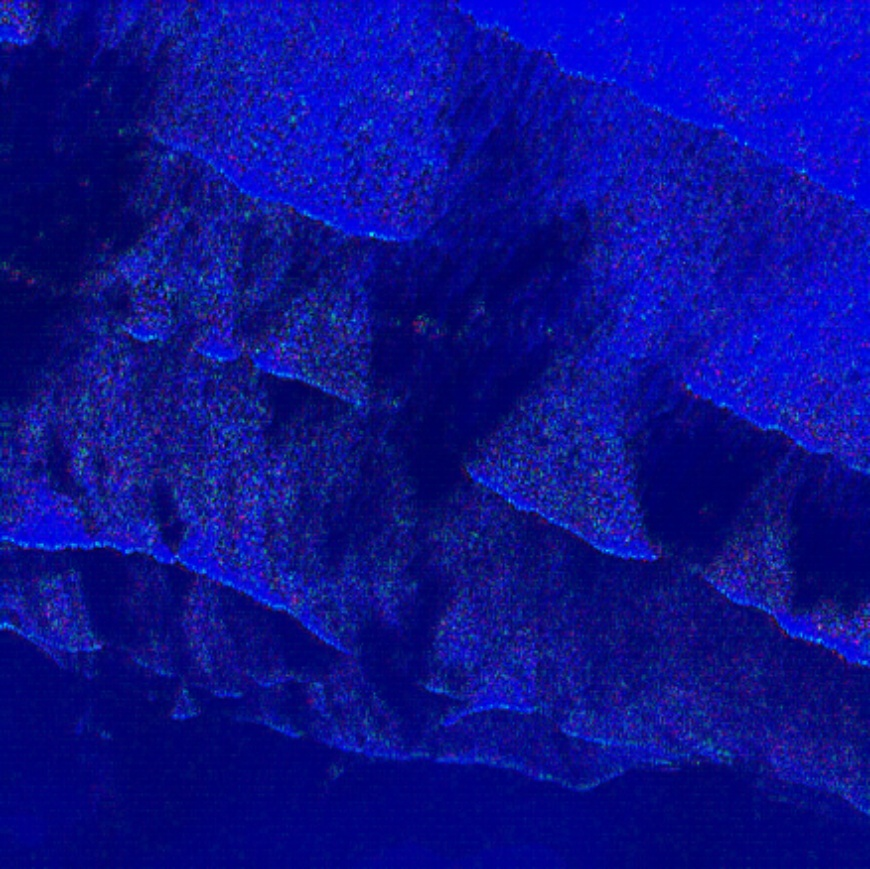rip_current: (292, 52, 687, 557)
